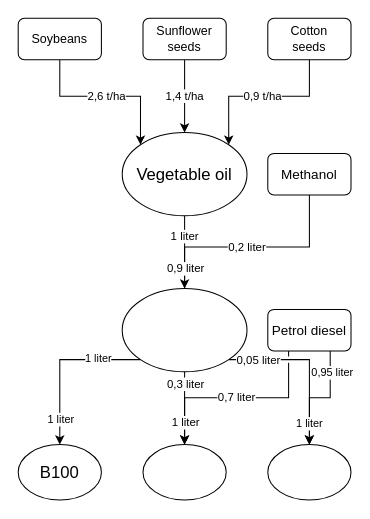
This 370x519 diagram has some shape labels left out. Each missing label, with the box of its shape:
B30: (142, 444, 226, 500)
B5: (267, 444, 351, 500)
Biodiesel: (121, 288, 247, 372)
